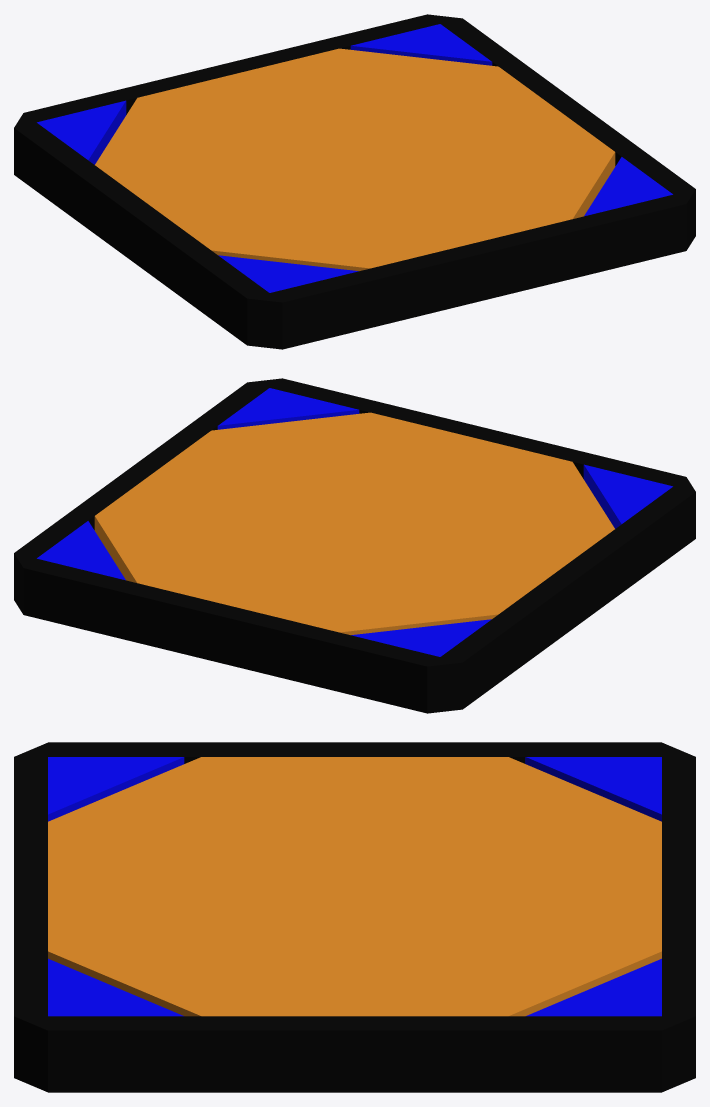
File: jumpplate.glb
3 renders of one model, top to bottom at view 1: azimuth 30°, elevation 25°; view 2: azimuth 150°, elevation 25°; view 3: azimuth 270°, elevation 25°, orthographic. The views are drawn at different scales.
Visible parts, largest first — view 1: GroundCube, Cube.003, Cube, Cube.001, Cube.002, Cube.009, Cube.010, Cube.011, Cube.008, Cube.007, Cube.004; view 2: GroundCube, Cube.001, Cube, Cube.003, Cube.002, Cube.008, Cube.011, Cube.010, Cube.009, Cube.006, Cube.005; view 3: GroundCube, Cube.002, Cube, Cube.001, Cube.003, Cube.010, Cube.011, Cube.008, Cube.009, Cube.004, Cube.005.
Part boxes in pixels (box(x1,y1,x2,y2)): GroundCube: box(95, 48, 615, 271); Cube.003: box(270, 194, 686, 349); Cube: box(14, 122, 269, 345); Cube.001: box(24, 14, 439, 122); Cube.002: box(441, 18, 695, 194); Cube.009: box(350, 24, 492, 65); Cube.010: box(37, 100, 126, 164); Cube.011: box(218, 255, 358, 292); Cube.008: box(584, 157, 672, 216); Cube.007: box(247, 293, 282, 349); Cube.004: box(674, 189, 695, 250); GroundCube: box(94, 412, 614, 635); Cube.001: box(23, 558, 439, 713); Cube: box(440, 486, 695, 709); Cube.003: box(270, 378, 685, 486); Cube.002: box(14, 382, 268, 558); Cube.008: box(217, 388, 359, 429); Cube.011: box(583, 464, 672, 528); Cube.010: box(351, 619, 491, 656); Cube.009: box(37, 521, 125, 580); Cube.006: box(427, 657, 462, 713); Cube.005: box(14, 553, 35, 614); GroundCube: box(48, 757, 661, 1016); Cube.002: box(48, 1016, 661, 1092); Cube: box(48, 742, 661, 763); Cube.001: box(662, 757, 695, 1016); Cube.003: box(14, 757, 47, 1016); Cube.010: box(525, 757, 661, 821); Cube.011: box(48, 757, 184, 821); Cube.008: box(48, 958, 183, 1016); Cube.009: box(526, 958, 661, 1016); Cube.004: box(14, 1016, 47, 1092); Cube.005: box(662, 1016, 695, 1092).
Bounding box in the file's own units: 2 × 0.2 × 2.
